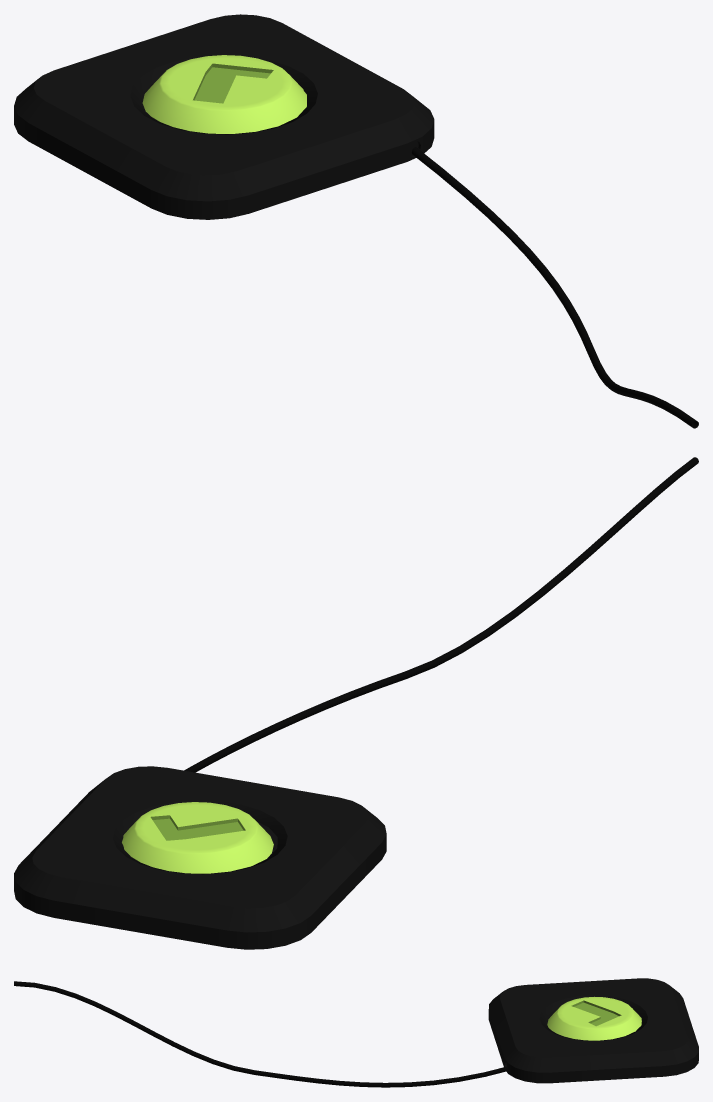
File: ConfirmBtn.fbx
3 renders of one model, top to bottom at view 1: azimuth 30°, elevation 25°; view 2: azimuth 150°, elevation 25°; view 3: azimuth 270°, elevation 25°, orthographic. The views are drawn at different scales.
Parts seen in each view (by area): view 1: DoorBtnBase.001, DoorBtn.001, BezierCurve.001; view 2: DoorBtnBase.001, DoorBtn.001, BezierCurve.001; view 3: DoorBtnBase.001, DoorBtn.001, BezierCurve.001.
Boxes of the visible parts, x1,y1,x2,y2 form: DoorBtnBase.001: (14,14,434,219); DoorBtn.001: (142,55,306,133); BezierCurve.001: (412,147,698,428); DoorBtnBase.001: (14,766,386,949); DoorBtn.001: (122,802,273,873); BezierCurve.001: (184,457,698,772); DoorBtnBase.001: (488,978,698,1083); DoorBtn.001: (547,996,641,1040); BezierCurve.001: (14,981,507,1087).
Size of the model in its own units: 87.81 by 29.55 by 286.
